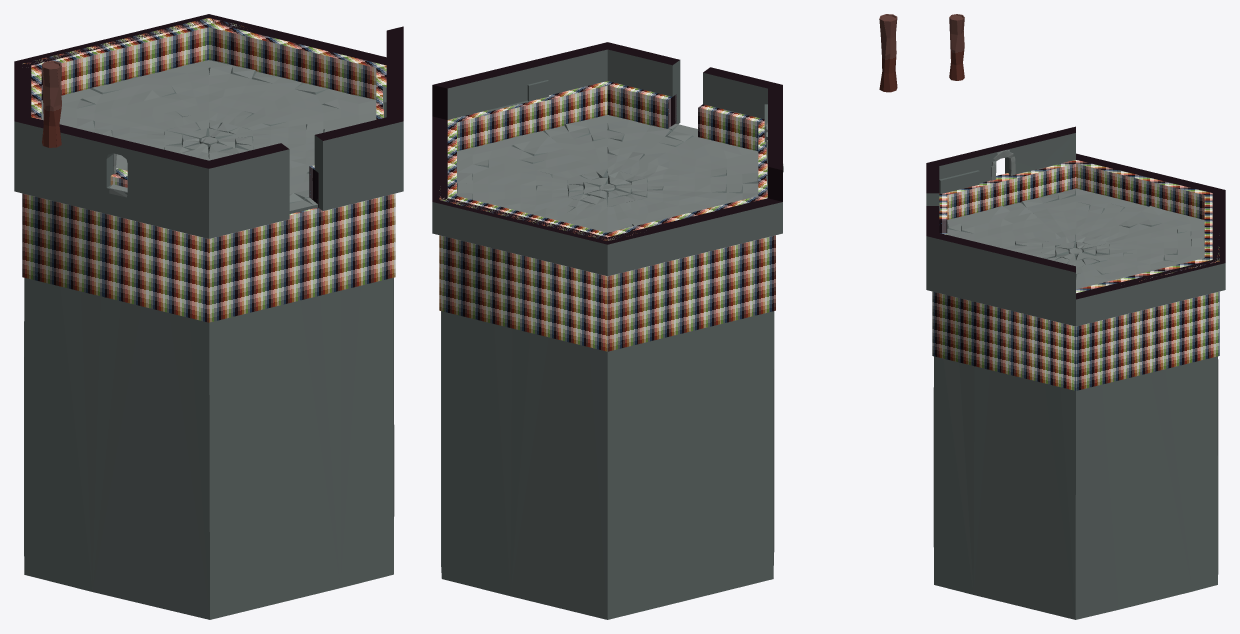
File: Room.fbx
The picture shows the model from 3 angles, left to right: view 1: azimuth 30°, elevation 25°; view 2: azimuth 150°, elevation 25°; view 3: azimuth 270°, elevation 25°; orthographic projection. The views are drawn at different scales.
Parts seen in each view (by area): view 1: Floor, Room, Walls, Wood; view 2: Floor, Room, Walls, Wood; view 3: Floor, Room, Walls, Wood.
Part boxes in pixels (<box>): Floor: <box>24,59,394,619</box>; Room: <box>22,18,395,322</box>; Walls: <box>14,14,403,238</box>; Wood: <box>42,61,61,147</box>; Floor: <box>441,115,774,619</box>; Room: <box>439,81,775,351</box>; Walls: <box>432,42,782,276</box>; Wood: <box>879,14,897,92</box>; Floor: <box>933,188,1218,619</box>; Room: <box>932,160,1219,390</box>; Walls: <box>926,126,1225,326</box>; Wood: <box>949,14,964,80</box>.
Bounding box in the file's own units: 2615 × 3304 × 2013.
